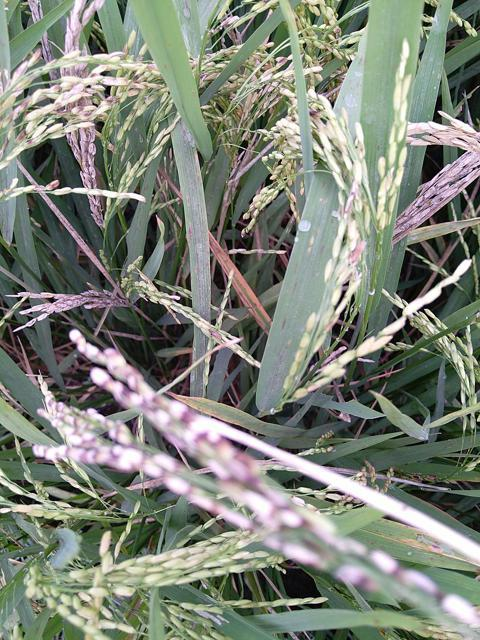Panicle Blight: (30, 331, 445, 614), (12, 290, 129, 333), (0, 99, 31, 162), (100, 90, 120, 116), (11, 55, 31, 78), (220, 11, 239, 33), (326, 305, 339, 337), (31, 180, 60, 193), (350, 241, 364, 267), (101, 76, 133, 87), (208, 329, 230, 344), (201, 67, 219, 85), (347, 182, 357, 213), (309, 104, 320, 131), (16, 129, 33, 146), (139, 61, 157, 74), (52, 100, 67, 115), (264, 36, 275, 51), (131, 74, 143, 86), (259, 85, 272, 95), (215, 307, 222, 322), (51, 85, 62, 93), (277, 56, 284, 65)
